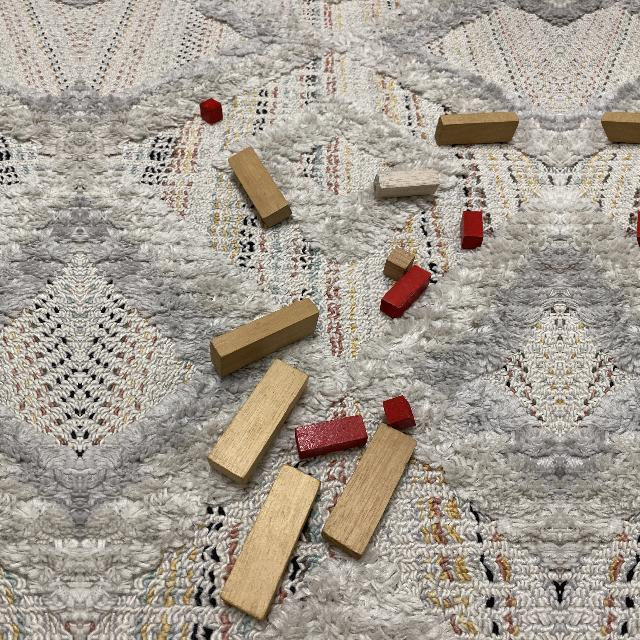cube: (383, 247, 415, 281)
jenga: (220, 463, 320, 623), (322, 422, 418, 560), (228, 147, 292, 228), (435, 111, 519, 146), (373, 169, 440, 198), (601, 111, 640, 144)
red block: (207, 358, 309, 485), (211, 297, 319, 378), (295, 415, 368, 460), (380, 265, 431, 319), (461, 211, 483, 250)
red cube: (382, 395, 417, 431), (199, 98, 223, 124)
